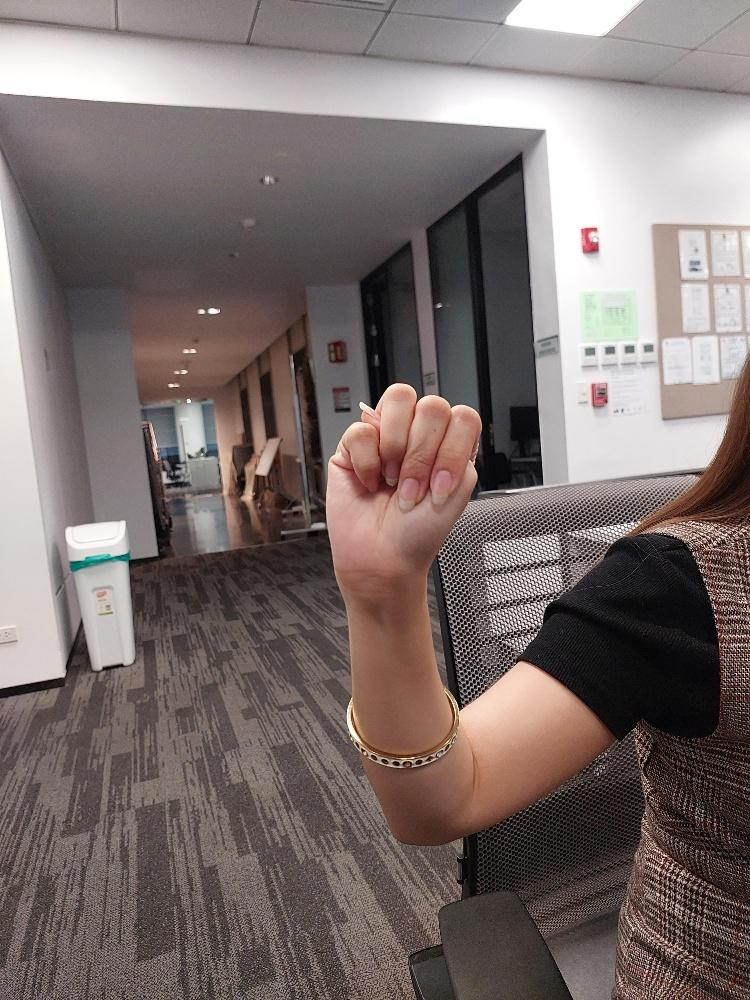m: (319, 376, 484, 596)
